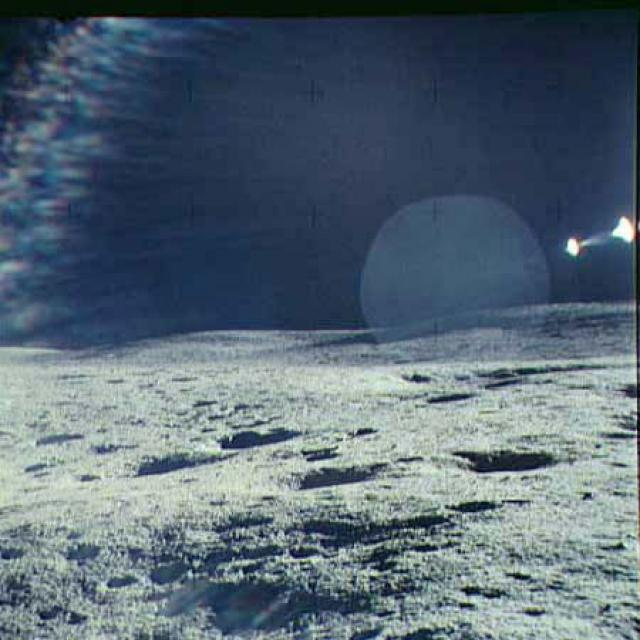crater: (413, 428, 596, 487), (274, 456, 416, 504), (106, 440, 222, 488), (216, 408, 321, 461), (406, 387, 493, 411), (60, 524, 109, 566), (94, 565, 146, 592), (393, 364, 439, 387)
